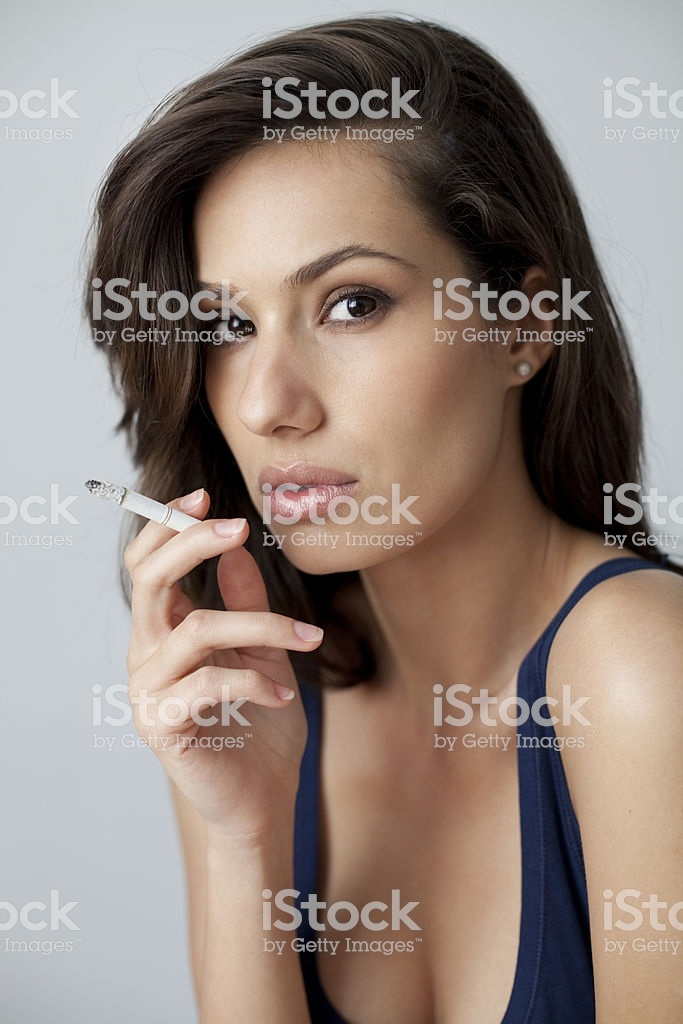sigaretta: (77, 483, 248, 556)
